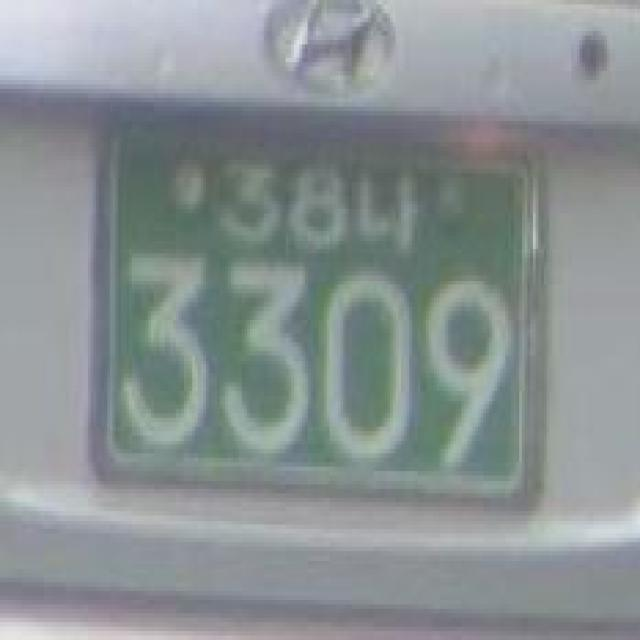illegal_plate: (73, 97, 560, 532)
